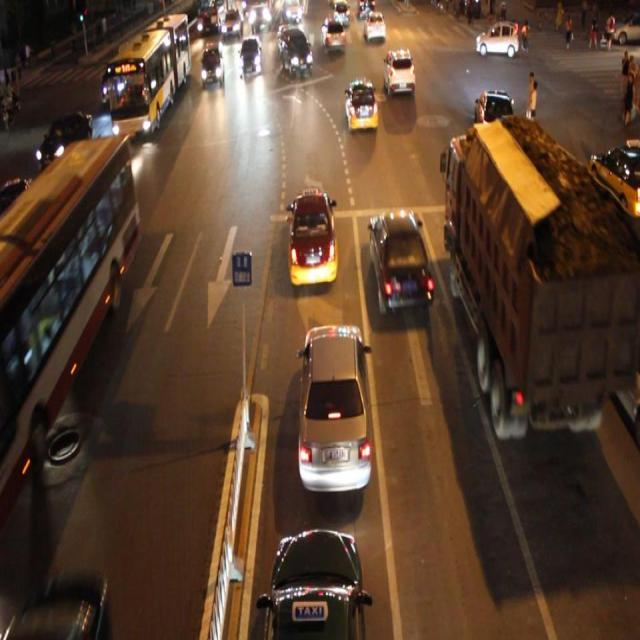bus: (444, 120, 629, 433)
car: (297, 319, 373, 495), (260, 526, 367, 640), (368, 208, 432, 313), (15, 569, 109, 640), (287, 188, 339, 284), (530, 148, 589, 222), (37, 111, 93, 172), (474, 88, 514, 140), (344, 76, 377, 134), (1, 177, 38, 228), (100, 60, 134, 109), (280, 28, 314, 75), (383, 47, 414, 95), (237, 36, 263, 80), (321, 18, 346, 54)
truck: (199, 41, 226, 87)
van: (0, 138, 128, 508), (109, 16, 187, 138)
